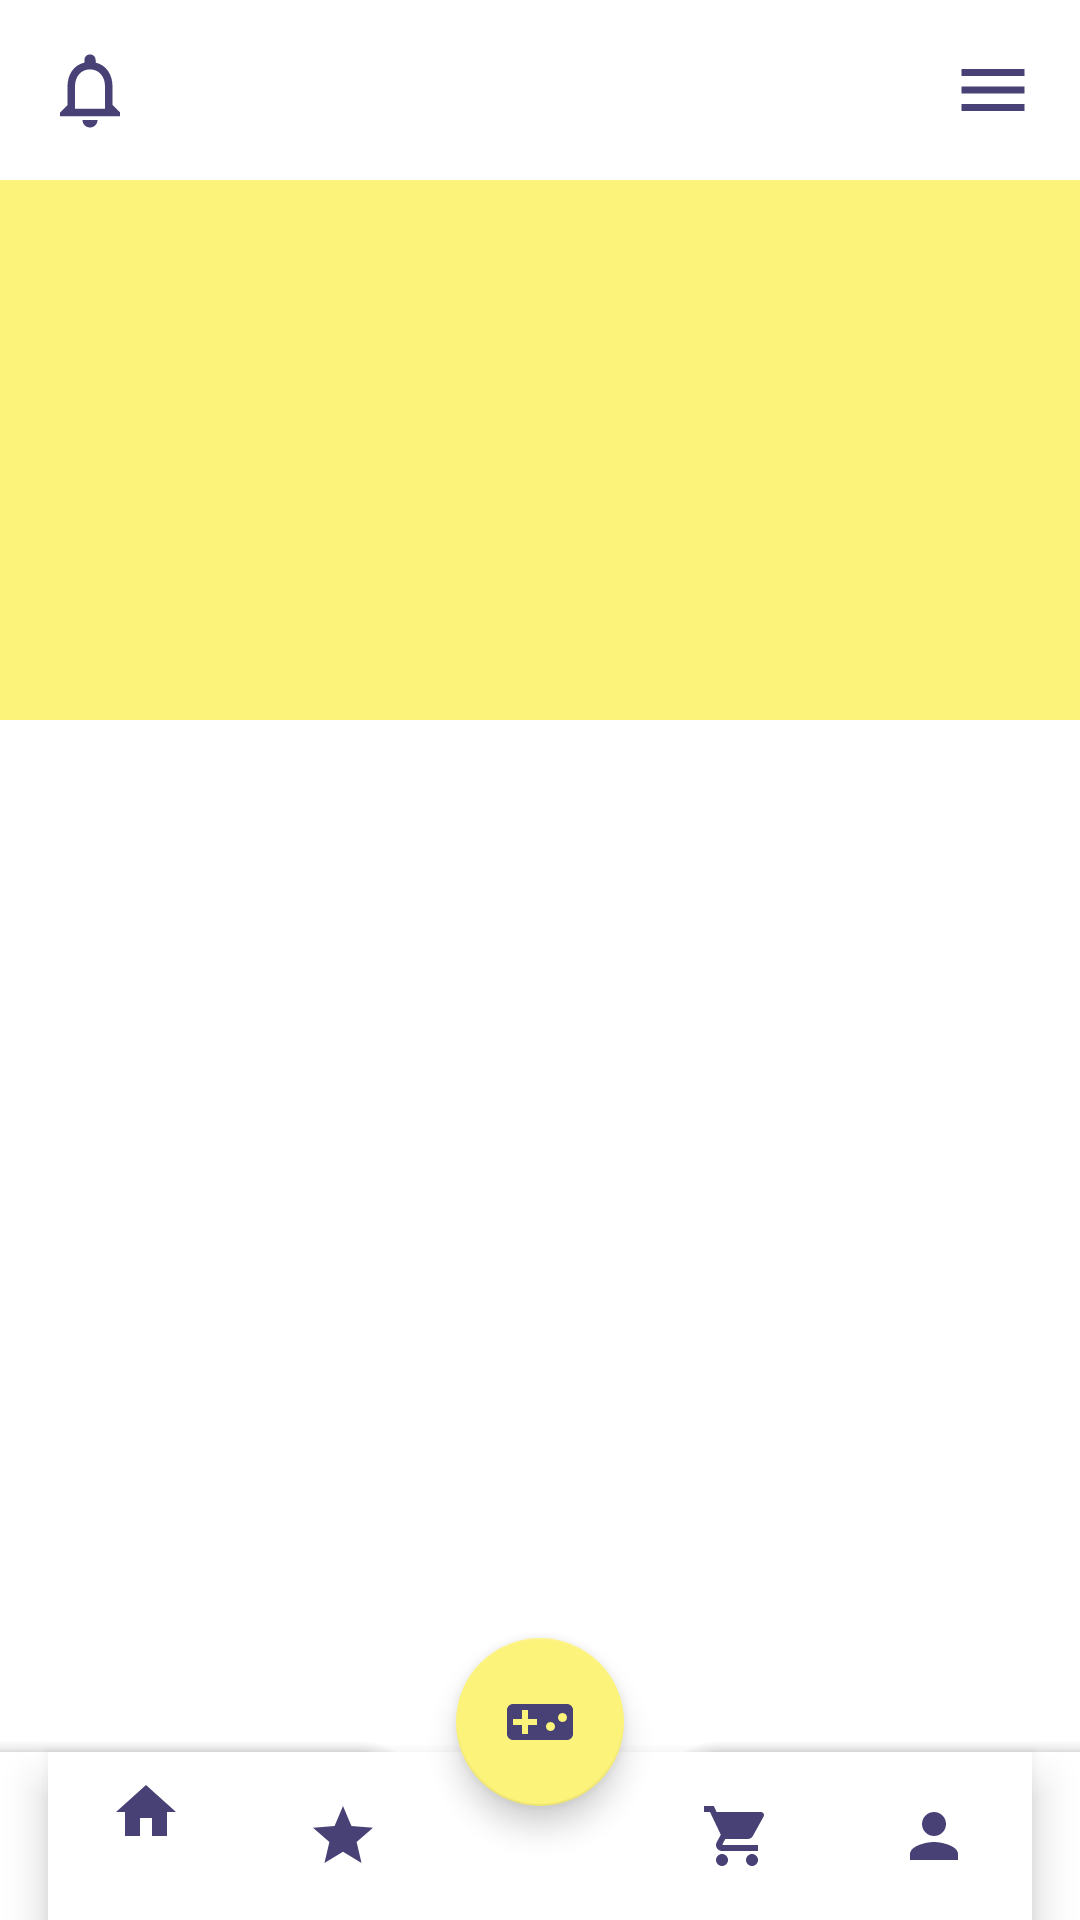

Icons on this 1080px x 1920px Android screen, each with its box as (x1, y1, x2, y2):
home game: (456, 1668, 624, 1821)
home menu: (961, 69, 1025, 111)
home notify: (60, 54, 120, 128)
